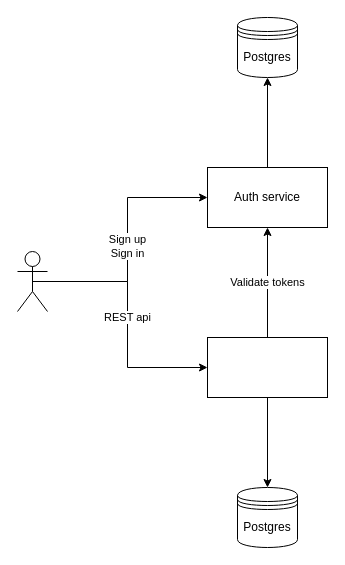
Image size: 345x565. Some labels were removed from this diagram. Here are the shapes that lost their labels. From the top down, the centre of each, then its label:
point (32, 281): Actor
point (267, 367): Store service
